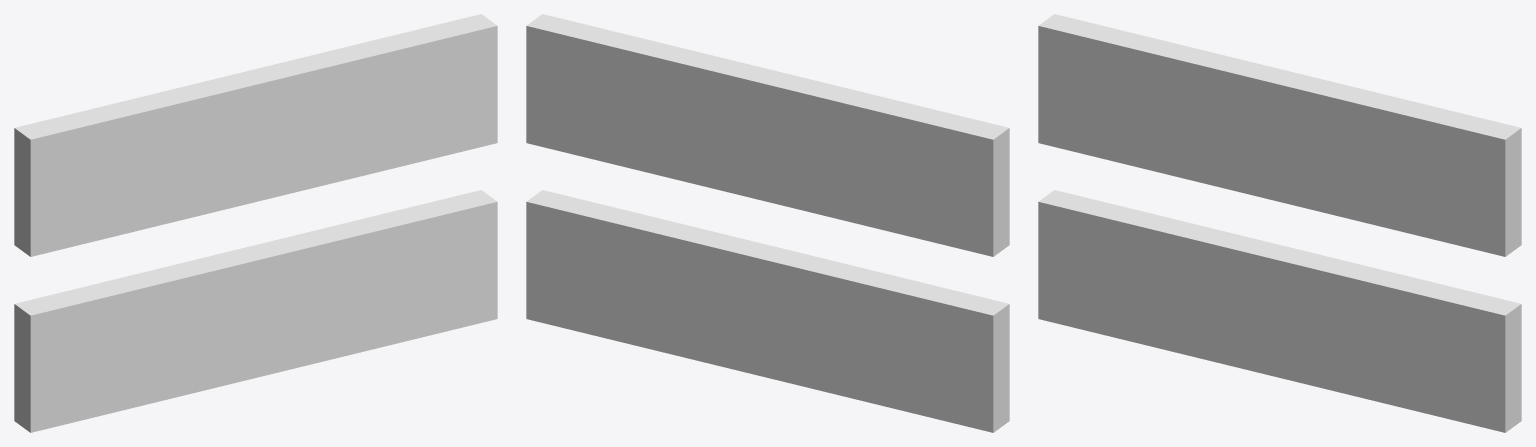
Rendered from dis_enlistee_insignia.glb.
3 renders of one model, left to right at view 1: azimuth 30°, elevation 25°; view 2: azimuth 150°, elevation 25°; view 3: azimuth 330°, elevation 25°, orthographic.
Parts seen in each view (by area): view 1: accessory; view 2: accessory; view 3: accessory.
Boxes of the visible parts, x1,y1,x2,y2 form: accessory: (14,14,497,432); accessory: (526,14,1009,432); accessory: (1038,14,1521,432).
Size of the model in its own units: 0.05 by 0.03 by 0.003.
Materials: 1 (1 with a texture image).
